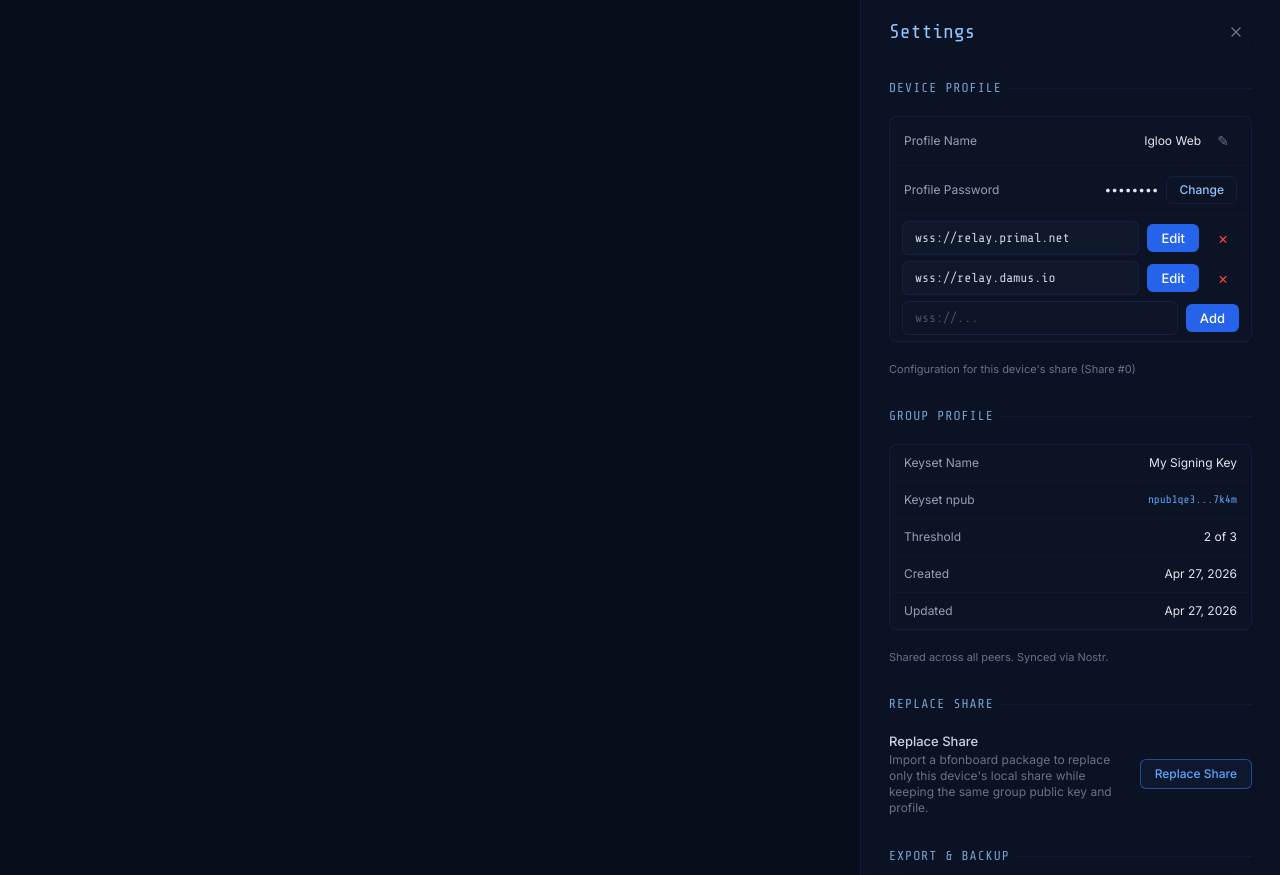
Test: SettingsSidebar — Change Password (VAL-SETTINGS-018/019/026/027/028) › rejects new password equal to current with inline error (VAL-SETTINGS-026)
Click the button with aria-label "change password" at [1202, 190], box [1166,176,1237,204]
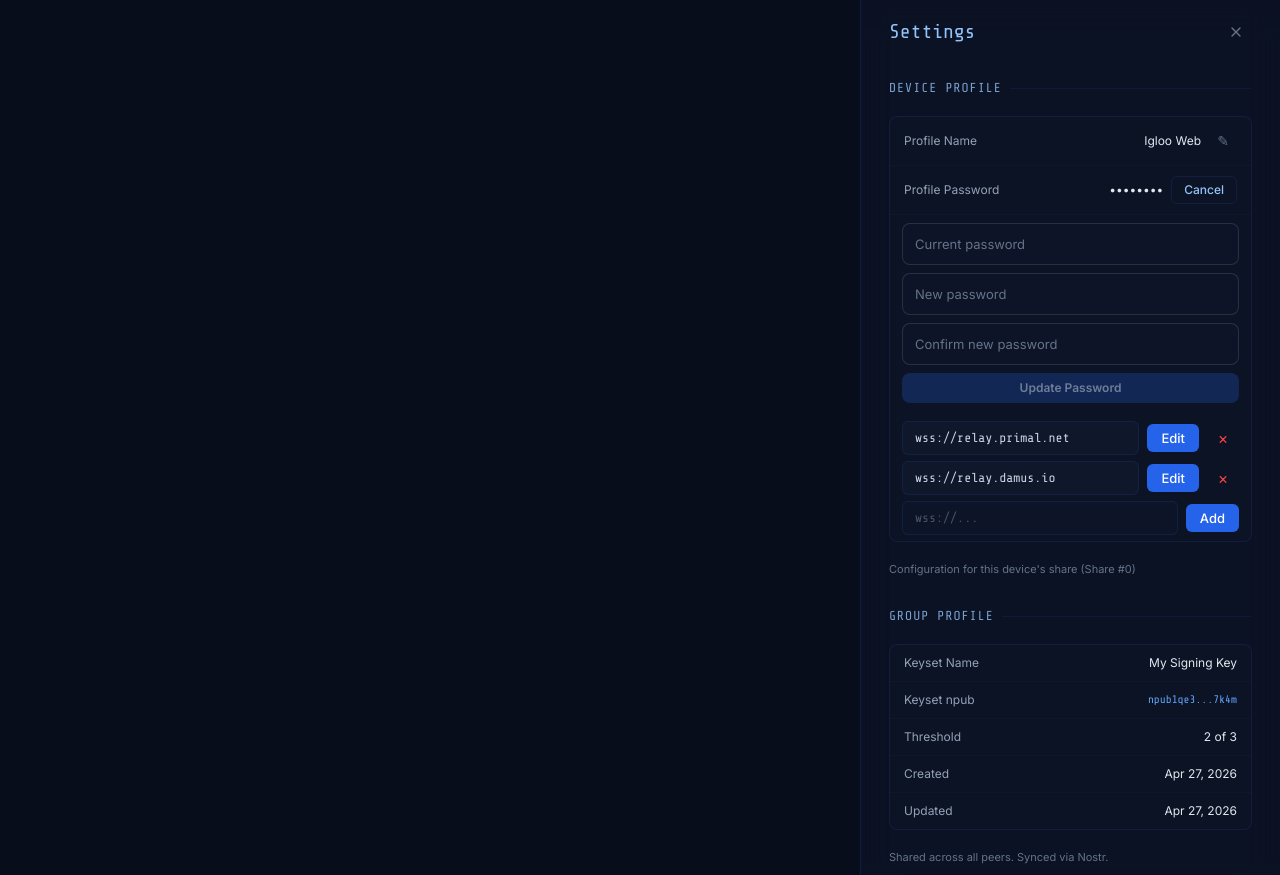
Type "samepass123" into the password field labelled "Current password" at [1070, 244], box [902,223,1239,265]
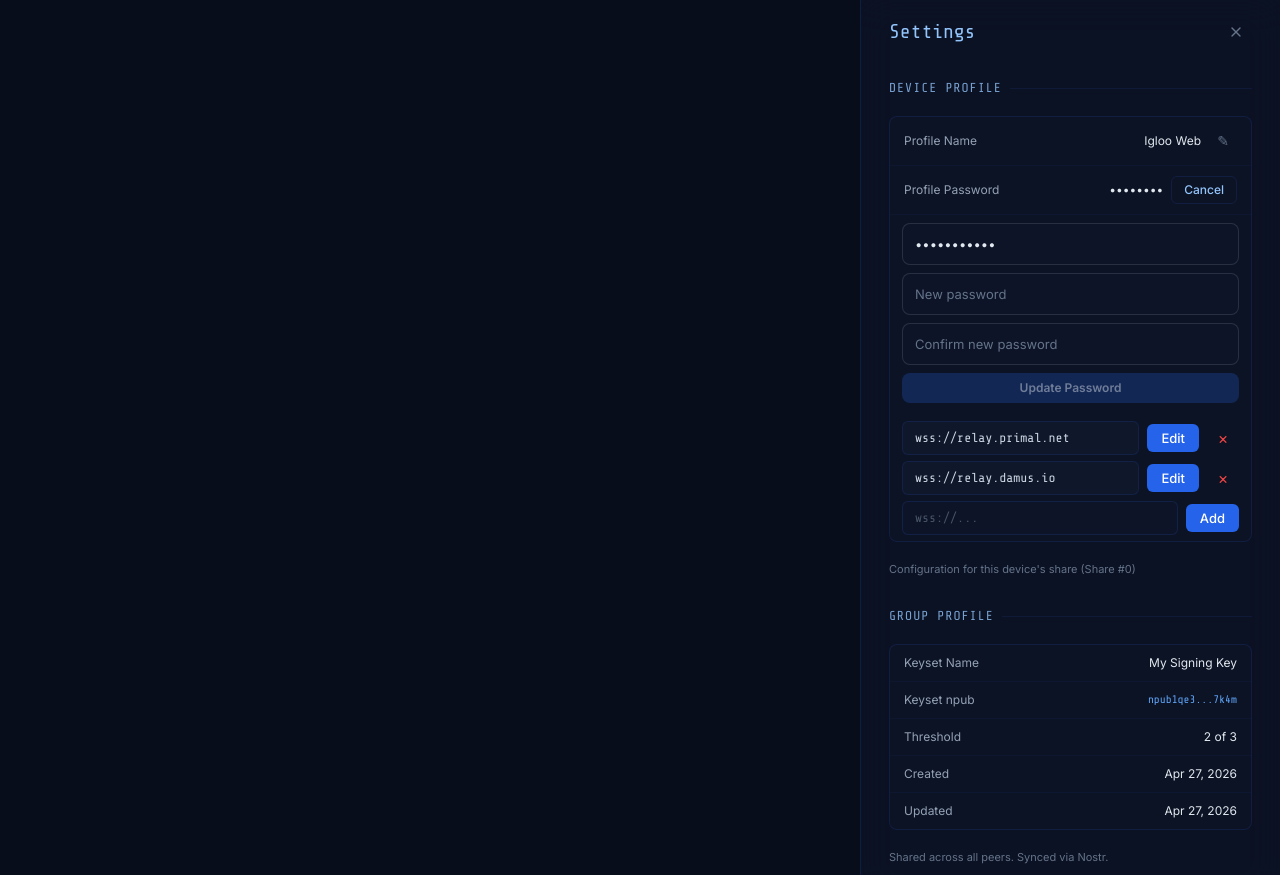
Type "samepass123" into the password field labelled "New password" at [1070, 294], box [902,273,1239,315]
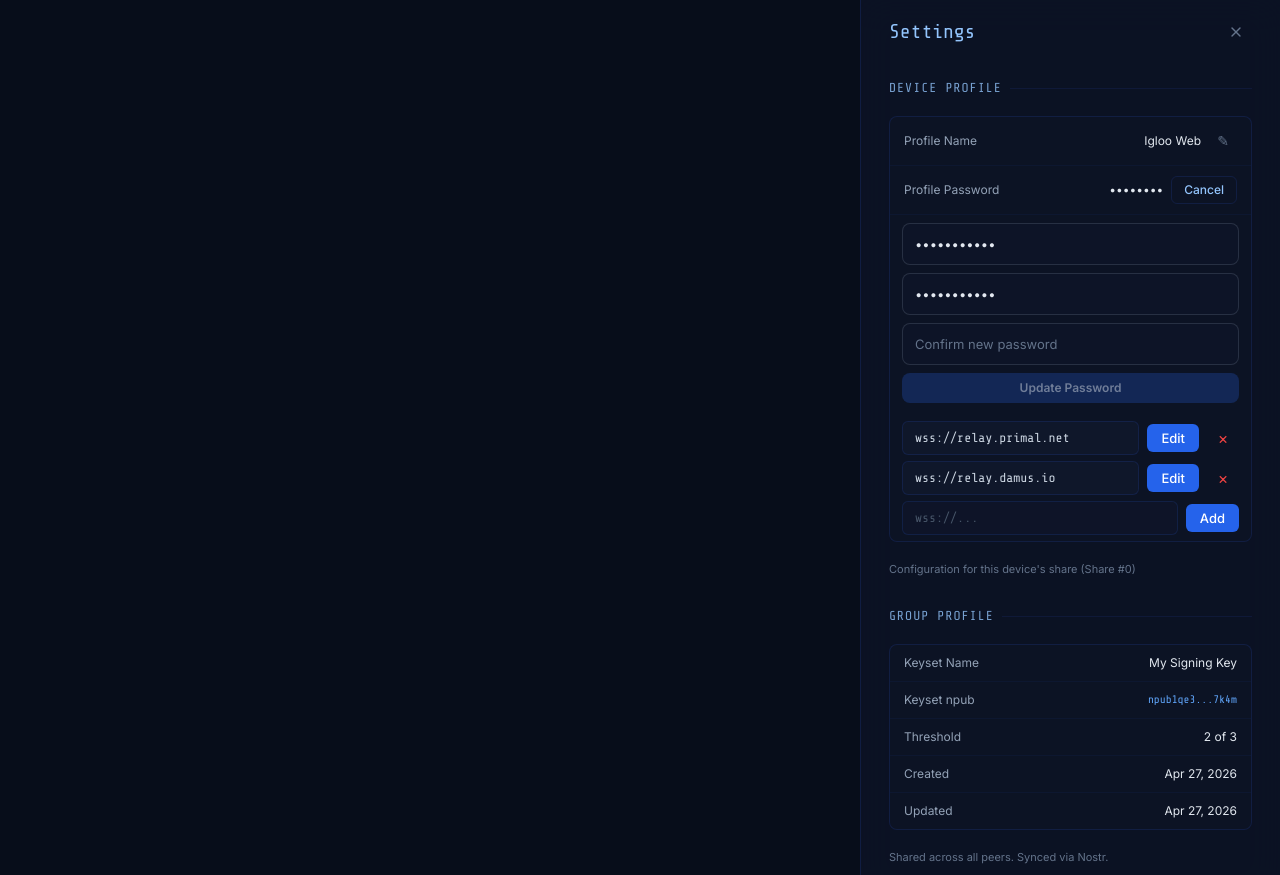
// Either disabled OR click surfaces inline error without dispatch
Type "samepass123" into the password field labelled "Confirm new password" at [1070, 344], box [902,323,1239,365]
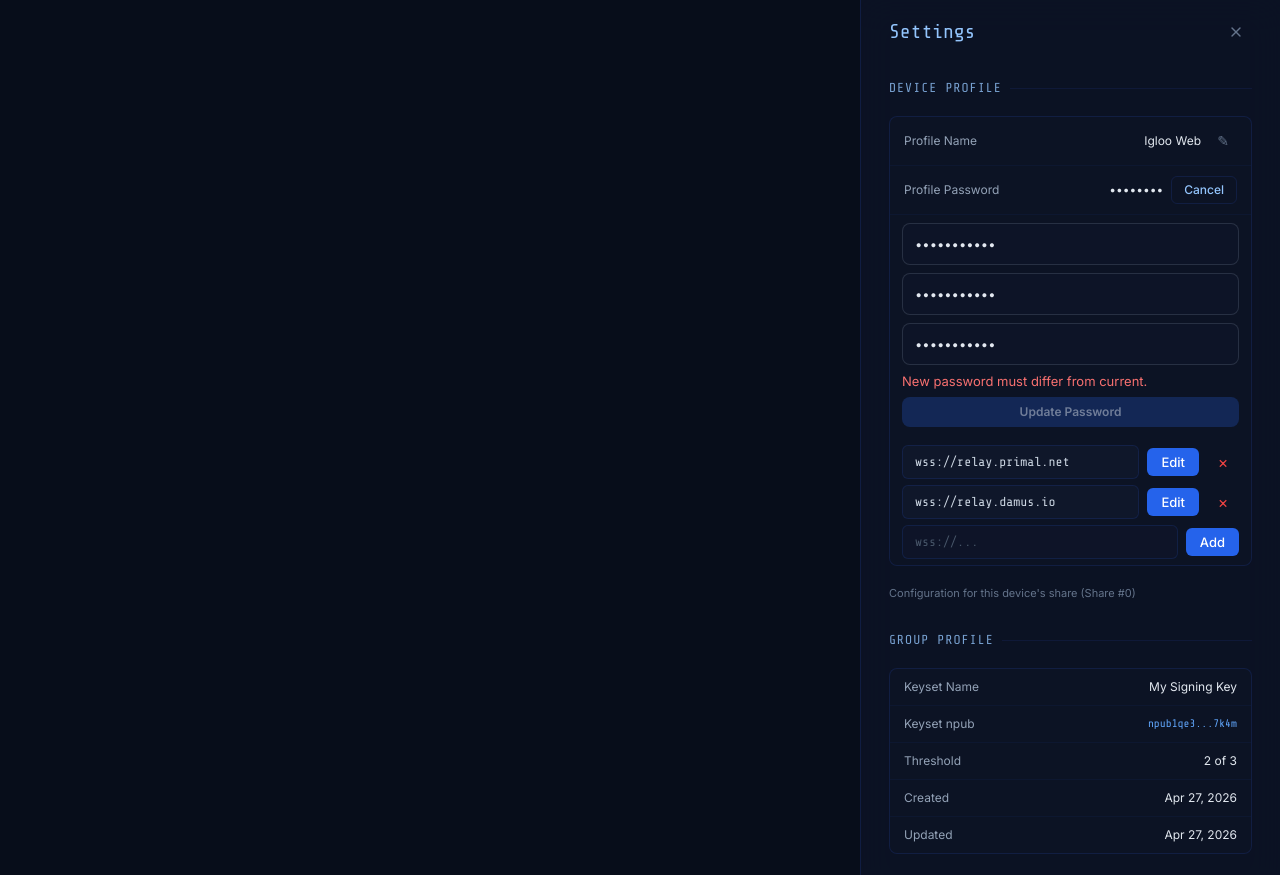
Check: the text "New password must differ from current." is shown, box [902,373,1147,389]
